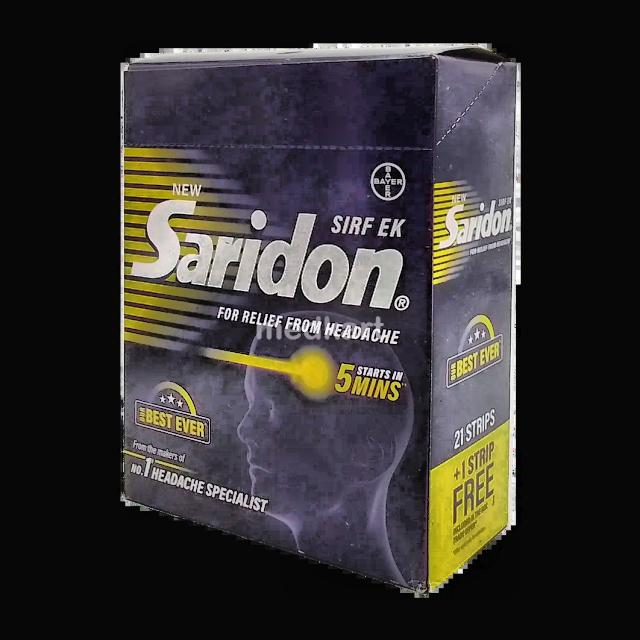Saridon: (138, 81, 431, 529)
